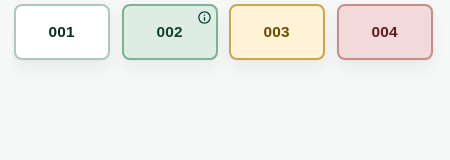
Test: Componente <GrelhaRifas /> › Deve diferenciar rifa disponível como ação de venda
The width and height of the screenshot is (450, 160).
Hover over the button named "Rifa 001 disponível para vender": (62, 32) [14, 4, 110, 60]
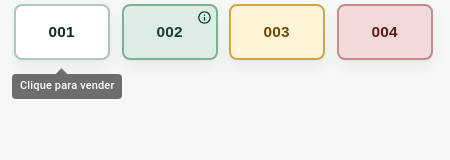
Check: the text "Clique para vender" is shown, box [12, 74, 122, 98]
